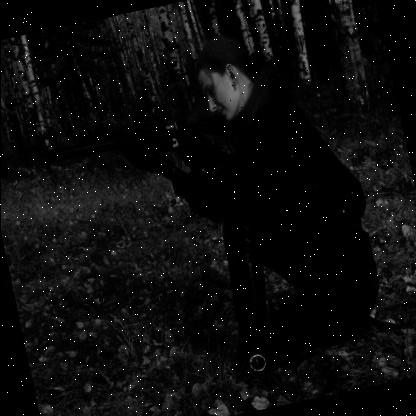rifle: (41, 86, 243, 204)
